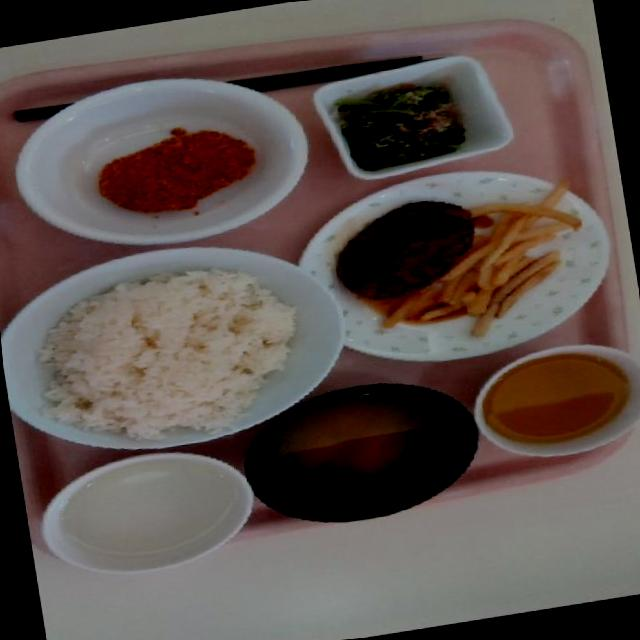Rice: (0, 244, 333, 458)
